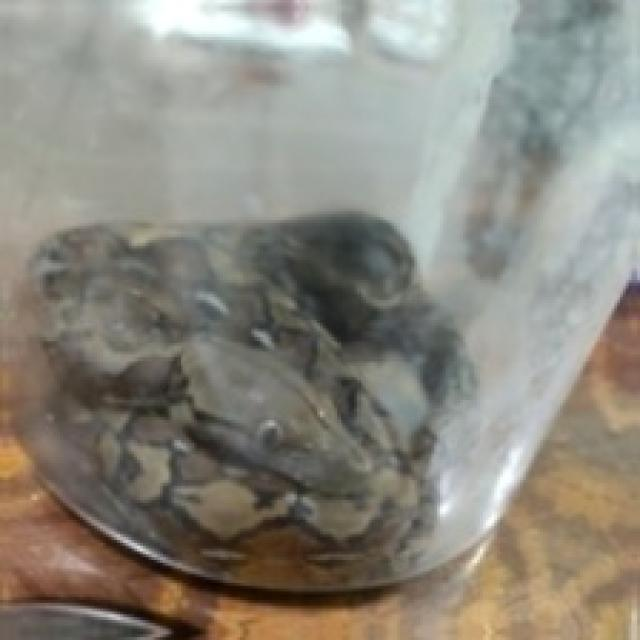reticulated python: (20, 214, 471, 586)
